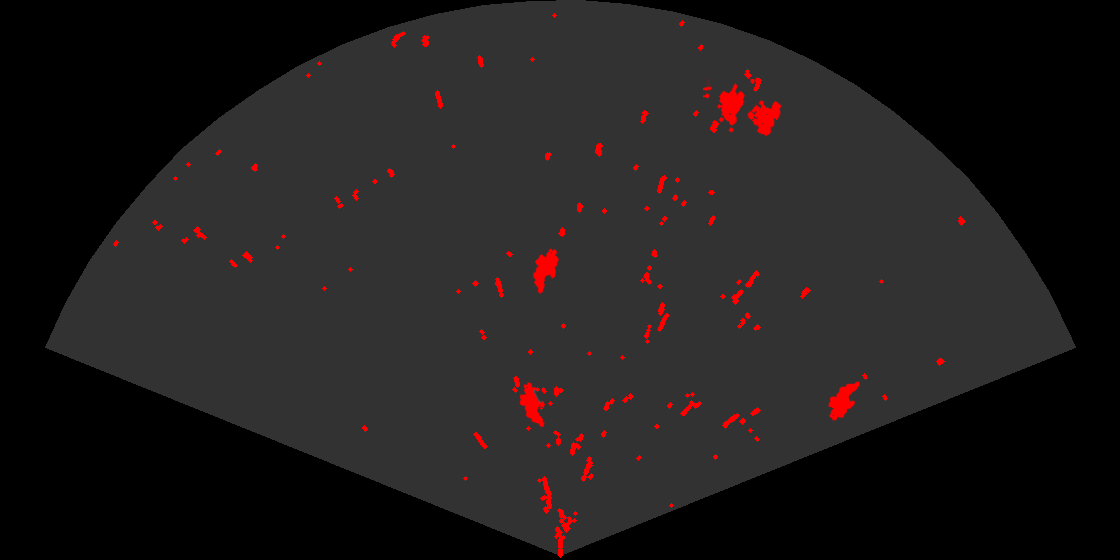AUV: (827, 380, 861, 422), (518, 381, 547, 429), (531, 247, 560, 295)
cage: (703, 79, 783, 137)
